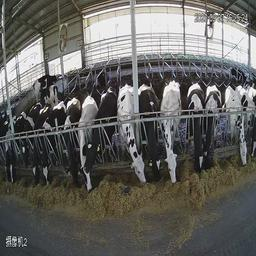cow: (111, 73, 151, 194), (158, 70, 184, 193), (137, 76, 166, 182), (25, 93, 50, 201), (1, 97, 28, 193), (74, 92, 98, 198), (58, 91, 81, 196), (225, 79, 249, 178), (185, 78, 208, 178), (205, 75, 226, 176), (28, 55, 64, 103)
